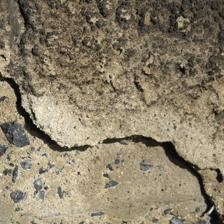Crack: (1, 37, 218, 181)
